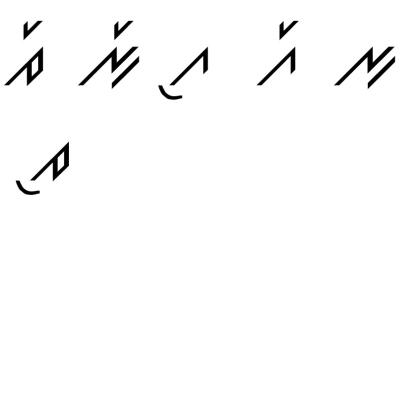gar: (247, 15, 306, 93)
gaw: (153, 39, 211, 106)
nga: (330, 27, 404, 91)
ngar: (72, 17, 146, 92)
tar: (2, 17, 53, 88)
taw: (9, 132, 80, 206)
